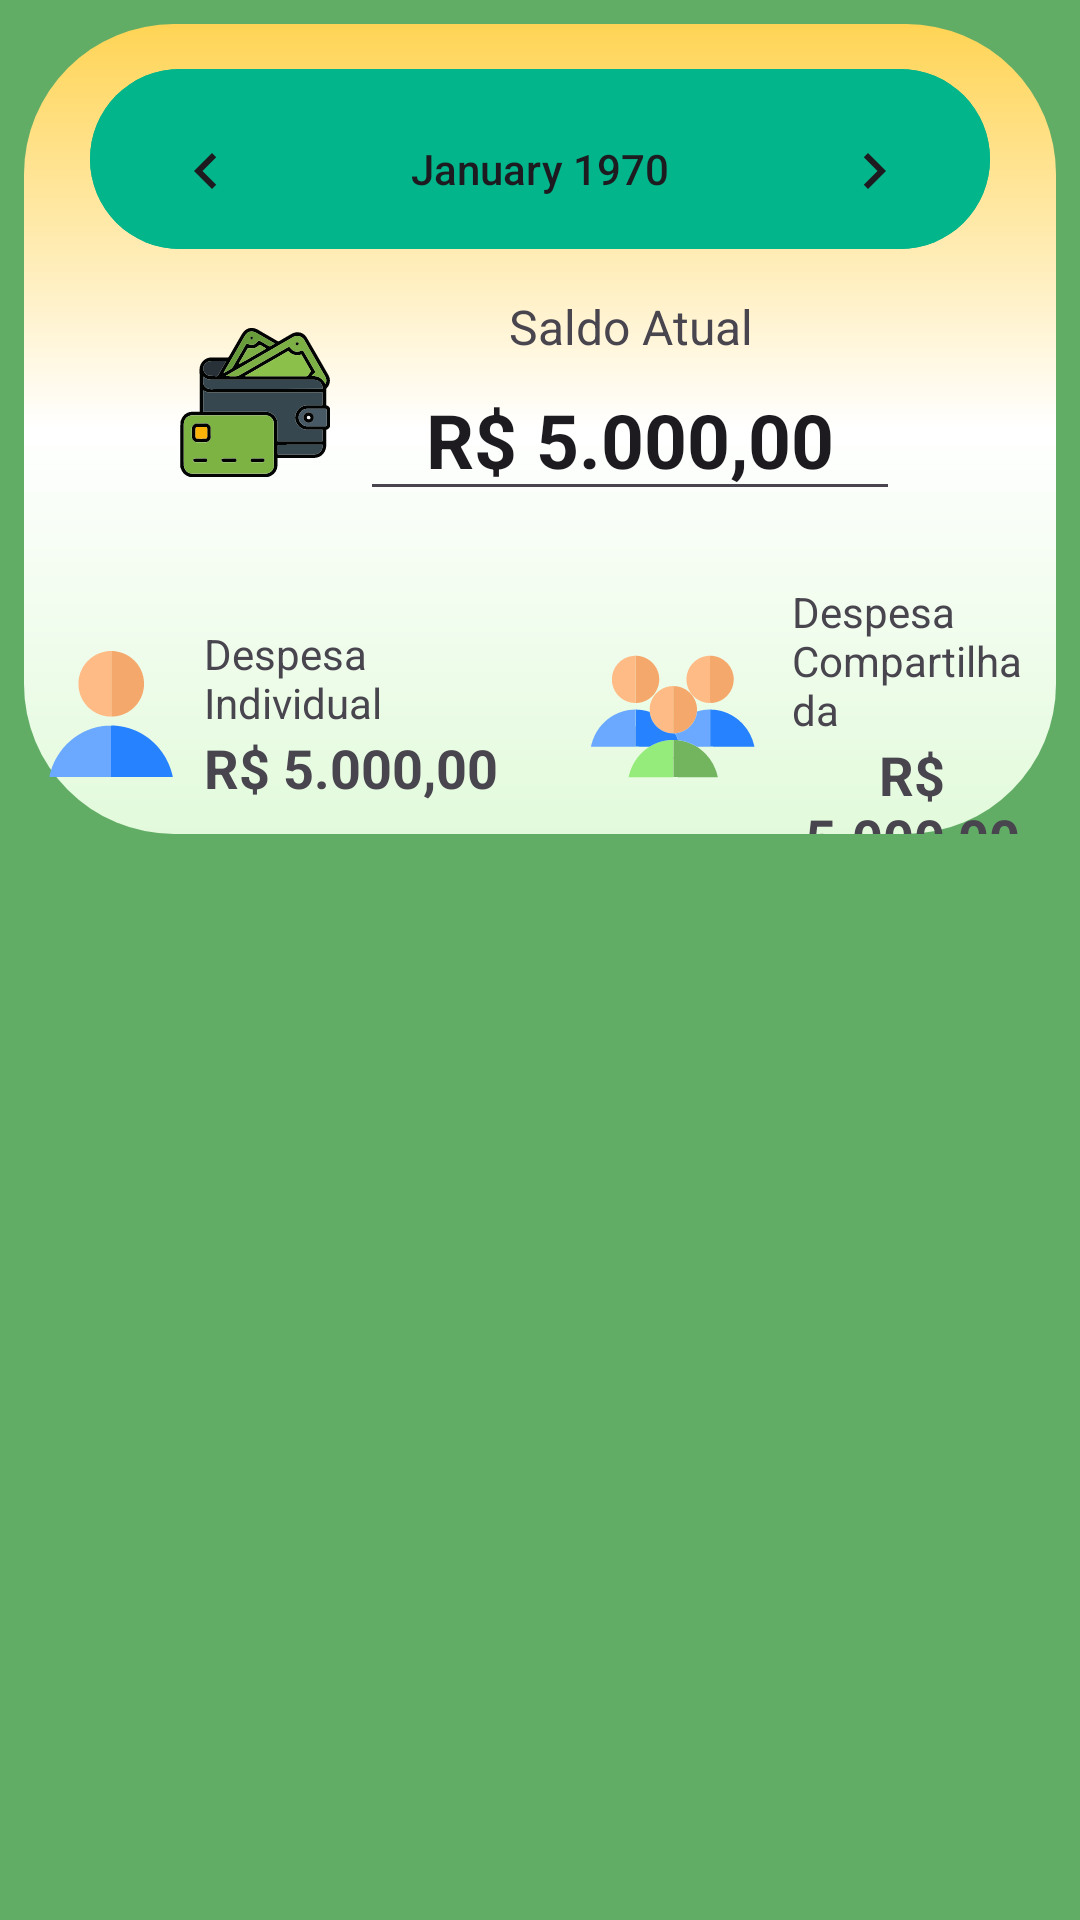

Point at icon controls on the screen. Image size 1080w x 1920h, points as point (x, y).
carteira: point (255, 402)
user grupo: point (673, 717)
user individual: point (110, 714)
